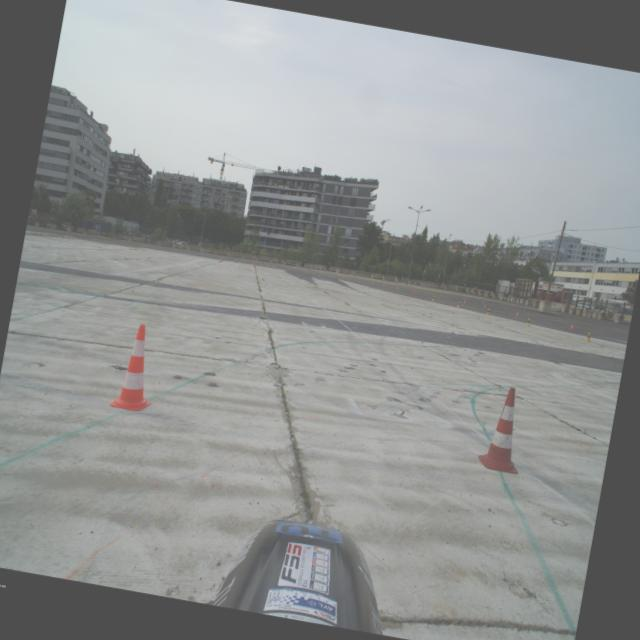large_orange_cone: (476, 383, 532, 474), (110, 321, 164, 413)
orange_cone: (568, 322, 574, 331), (514, 310, 520, 318), (482, 303, 487, 310), (462, 298, 466, 304), (438, 293, 442, 298), (411, 289, 414, 295), (371, 280, 374, 286), (219, 256, 222, 262), (266, 263, 270, 267), (382, 282, 385, 287), (305, 269, 308, 274), (272, 264, 275, 269), (235, 258, 238, 263), (342, 276, 345, 280), (252, 262, 255, 266), (413, 288, 415, 293), (396, 286, 398, 290), (344, 276, 346, 280)
yellow_cone: (584, 332, 592, 342), (524, 317, 532, 326), (485, 308, 490, 316), (456, 300, 460, 308), (432, 295, 434, 301)
